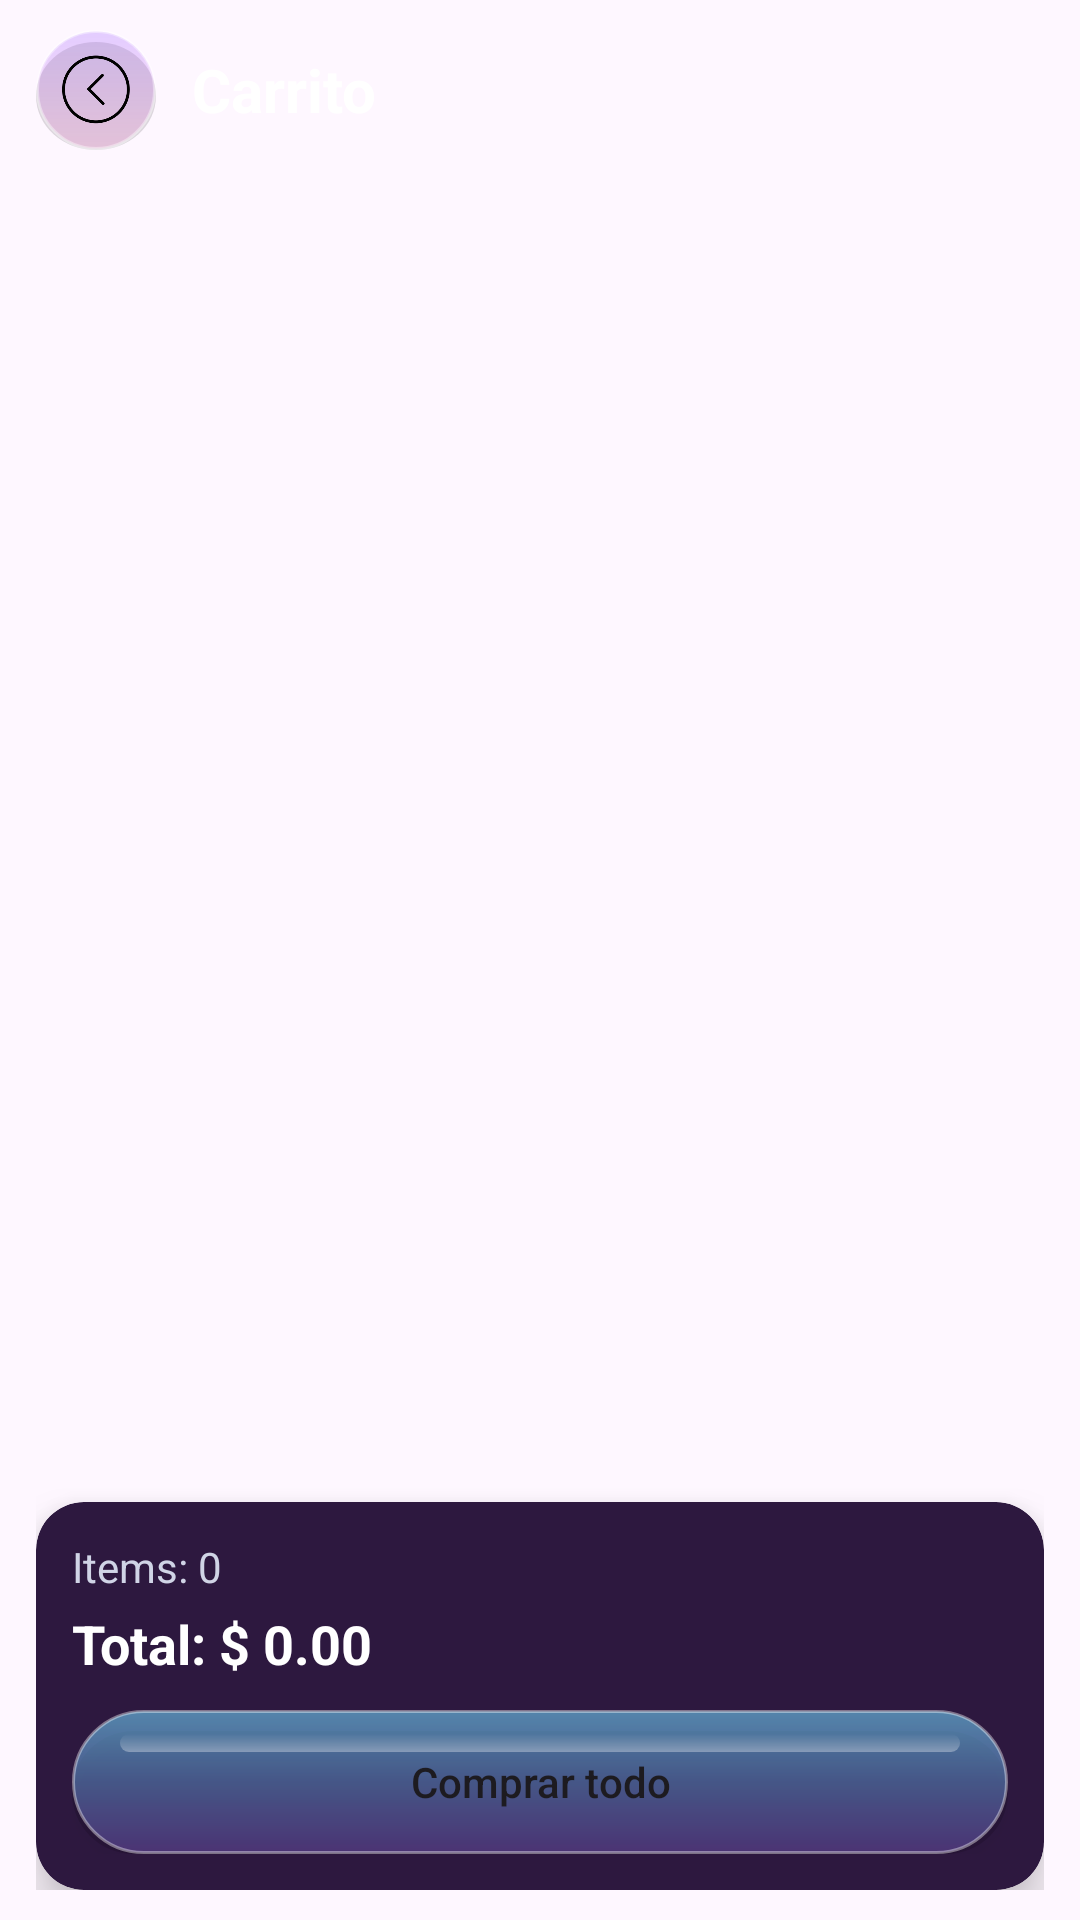

Icon click points for this 1080px×1920px phone screenshot, format [x,y]:
Volver a explorar: [96,90]
